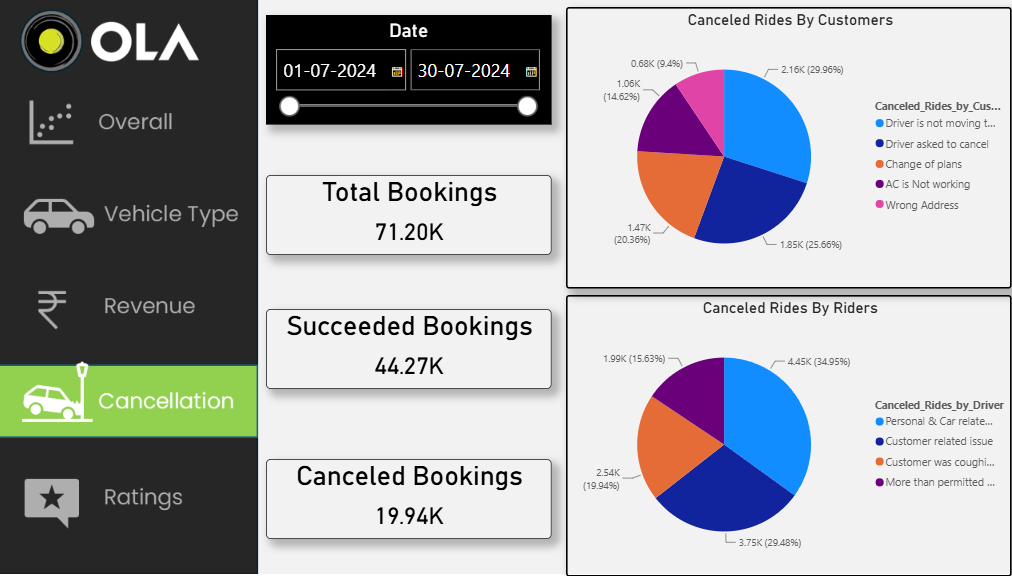

The page's visual inventory and layout, read from the dashboard file:
{"tool":"powerbi","page":{"name":"Cancellation","canvas":[1280,720],"ordinal":3},"visuals":[{"type":"actionButton","box":[0,218.5,324.8,89.6],"z":0},{"type":"actionButton","box":[0,341.6,324.8,89.6],"z":1000},{"type":"actionButton","box":[0,453.8,324.8,96.3],"z":2000},{"type":"actionButton","box":[0,566.8,324.8,107.2],"z":3000},{"type":"actionButton","box":[0,107.2,324.8,98.8],"z":4000},{"type":"pieChart","title":"Canceled Rides By Customers","fields":{"Y":["CountNonNull(July.Canceled_Rides_by_Customer)"],"Category":["July.Canceled_Rides_by_Customer"]},"box":[708.2,8.2,557.3,351.8],"z":5000},{"type":"pieChart","title":"Canceled Rides By Riders","fields":{"Y":["CountNonNull(July.Canceled_Rides_by_Driver)"],"Category":["July.Canceled_Rides_by_Driver"]},"box":[708.2,368.2,557.3,351.8],"z":6000},{"type":"slicer","title":"Date","fields":{"Values":["July.Date"]},"box":[333.6,19.1,357.3,137.3],"z":7000},{"type":"card","title":"Total Bookings","fields":{"Values":["CountNonNull(July.Booking_ID)"]},"box":[333.6,218.2,357.3,100],"z":8000},{"type":"card","title":"Succeeded Bookings","fields":{"Values":["CountNonNull(July.Booking_ID)"]},"box":[333.6,386.4,357.3,100],"z":9000},{"type":"card","title":"Canceled Bookings","fields":{"Values":["CountNonNull(July.Booking_ID)"]},"box":[333.6,573.6,357.3,100],"z":10000}]}

Visuals, with their boxes in screenshot pixels (x1, y1, x2, y2), scaled from the page's 1280x720 canvas onto the 1012x576 screenshot:
actionButton: <region>0, 175, 257, 246</region>
actionButton: <region>0, 273, 257, 345</region>
actionButton: <region>0, 363, 257, 440</region>
actionButton: <region>0, 453, 257, 539</region>
actionButton: <region>0, 86, 257, 165</region>
"Canceled Rides By Customers" pieChart: <region>560, 7, 1001, 288</region>
"Canceled Rides By Riders" pieChart: <region>560, 295, 1001, 575</region>
"Date" slicer: <region>264, 15, 546, 125</region>
"Total Bookings" card: <region>264, 175, 546, 255</region>
"Succeeded Bookings" card: <region>264, 309, 546, 389</region>
"Canceled Bookings" card: <region>264, 459, 546, 539</region>
